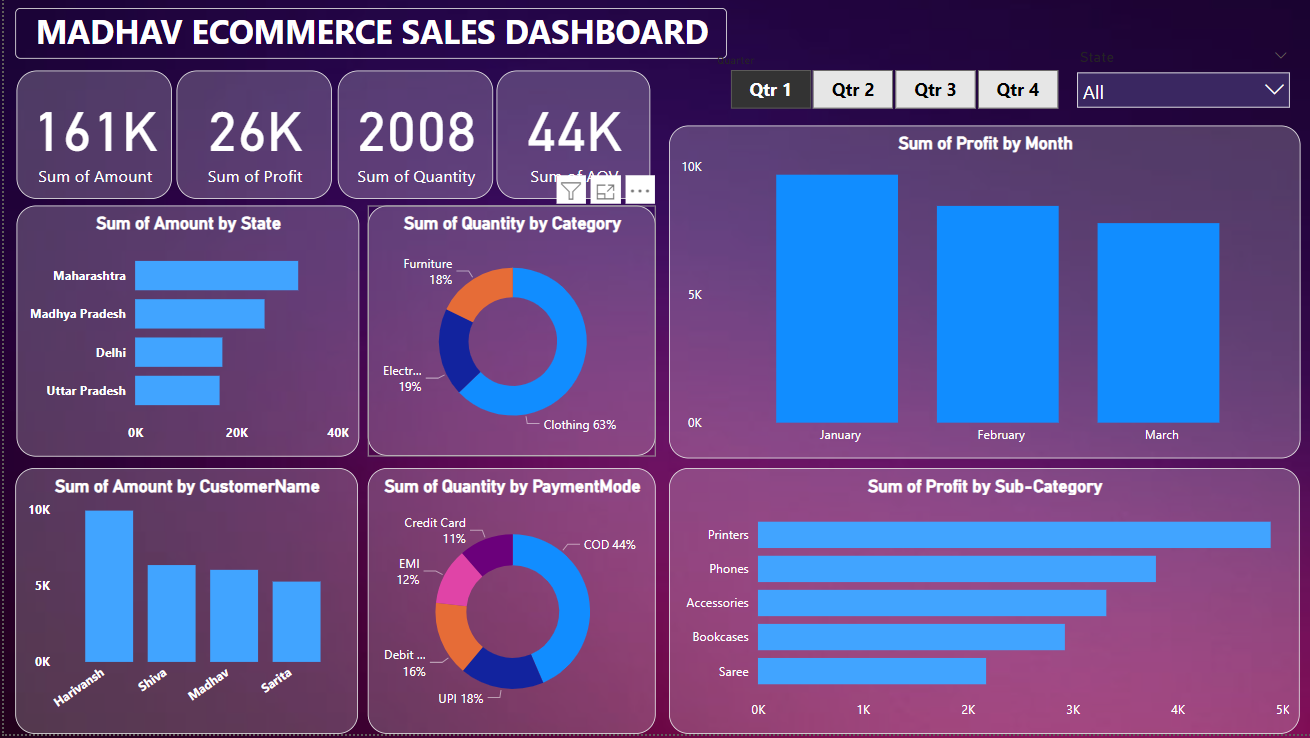

What the dashboard file says about the page in this screenshot:
{"tool":"powerbi","page":{"name":"Madhav Ecommerce","canvas":[1280,720],"ordinal":0},"visuals":[{"type":"textbox","title":"Ma","box":[11.5,9.4,696.2,49.2],"z":0},{"type":"clusteredBarChart","fields":{"Category":["Orders.State"],"Y":["Details.Amount"]},"box":[11.7,202.6,335.1,245.5],"z":1},{"type":"clusteredColumnChart","fields":{"Category":["Orders.CustomerName"],"Y":["Details.Amount"]},"box":[11.5,459.6,335,259.6],"z":2},{"type":"card","fields":{"Values":["Details.Amount"]},"box":[11.7,70.4,151.9,126],"z":3},{"type":"card","fields":{"Values":["Details.Profit"]},"box":[168.8,70.4,151.9,126],"z":4},{"type":"card","fields":{"Values":["Details.Quantity"]},"box":[326,70.4,151.9,126],"z":5},{"type":"card","fields":{"Values":["Details.AOV"]},"box":[481.8,70.4,150.7,126],"z":6},{"type":"donutChart","fields":{"Y":["Details.Quantity"],"Category":["Details.Category"]},"box":[356,203.1,281.6,245],"z":7},{"type":"donutChart","fields":{"Y":["Details.Quantity"],"Category":["Details.PaymentMode"]},"box":[356,459.6,281.6,259.6],"z":8},{"type":"barChart","fields":{"Y":["Details.Profit"],"Category":["Details.Sub-Category"]},"box":[650.7,459.7,616.9,259.7],"z":9},{"type":"columnChart","fields":{"Y":["Details.Profit"],"Category":["Orders.Order Date.Variation.Date Hierarchy.Month"]},"box":[650.2,124.6,617.7,325.6],"z":10},{"type":"slicer","fields":{"Values":["Orders.Order Date.Variation.Date Hierarchy.Quarter"]},"box":[684.4,49.4,370.1,66.2],"z":11},{"type":"slicer","fields":{"Values":["Orders.State"]},"box":[1039,44,228.6,66],"z":12}]}

Visuals, with their boxes in screenshot pixels (x1, y1, x2, y2), scaled from the page's 1280x720 canvas onto the 1310x738 screenshot:
"Ma" textbox: crop(12, 10, 724, 60)
clusteredBarChart - Orders.State x Details.Amount: crop(12, 208, 355, 459)
clusteredColumnChart - Orders.CustomerName x Details.Amount: crop(12, 471, 355, 737)
card - Details.Amount: crop(12, 72, 167, 201)
card - Details.Profit: crop(173, 72, 328, 201)
card - Details.Quantity: crop(334, 72, 489, 201)
card - Details.AOV: crop(493, 72, 647, 201)
donutChart - Details.Quantity x Details.Category: crop(364, 208, 653, 459)
donutChart - Details.Quantity x Details.PaymentMode: crop(364, 471, 653, 737)
barChart - Details.Profit x Details.Sub-Category: crop(666, 471, 1297, 737)
columnChart - Details.Profit x Orders.Order Date.Variation.Date Hierarchy.Month: crop(665, 128, 1298, 461)
slicer - Orders.Order Date.Variation.Date Hierarchy.Quarter: crop(700, 51, 1079, 118)
slicer - Orders.State: crop(1063, 45, 1297, 113)
